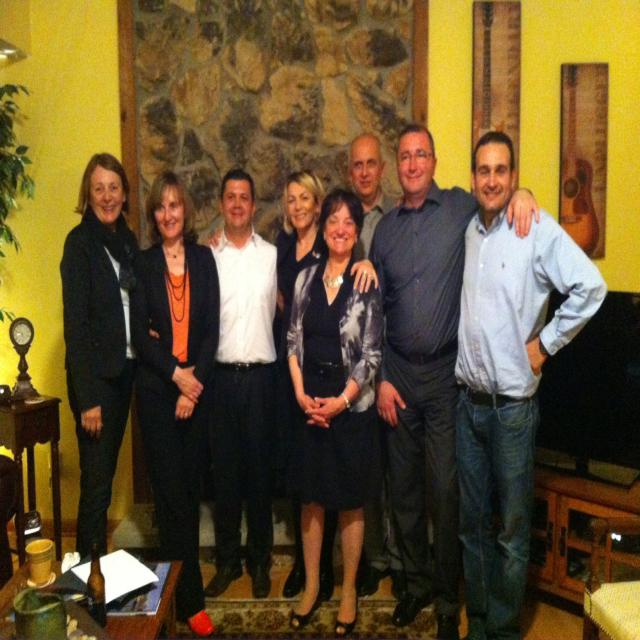body: (367, 123, 540, 637), (449, 130, 608, 640), (199, 167, 381, 604), (283, 185, 388, 640), (123, 167, 223, 639), (56, 150, 147, 560), (199, 162, 281, 604), (344, 130, 402, 601)
